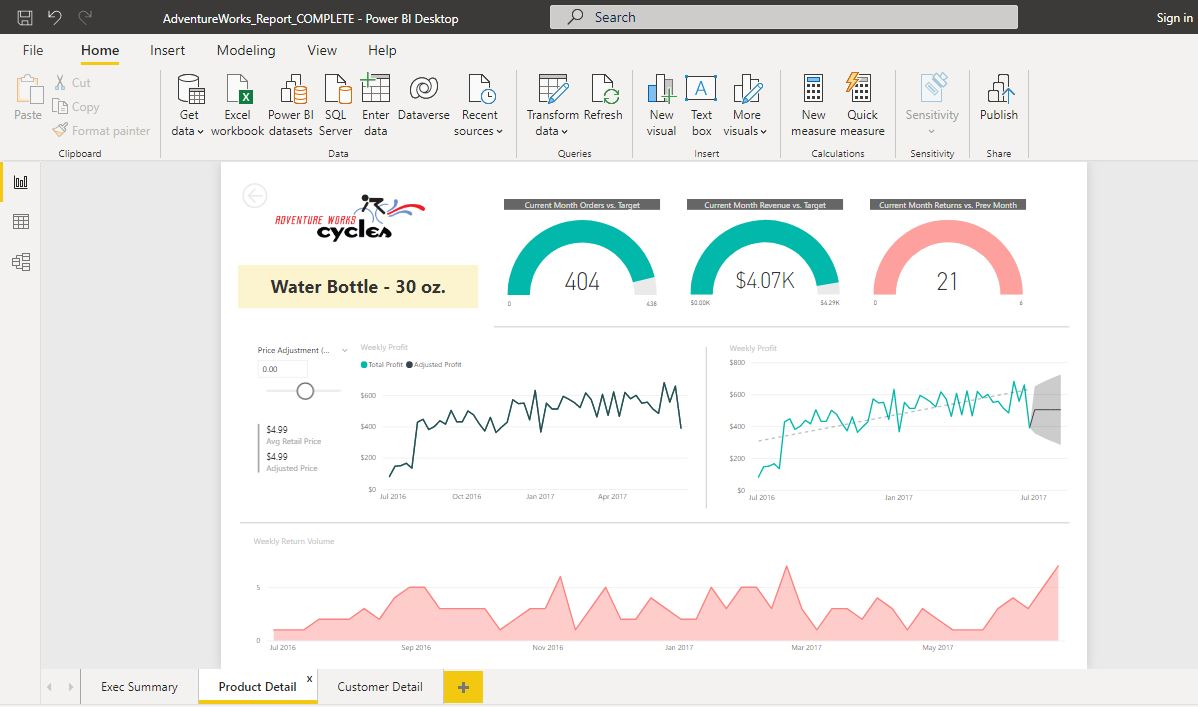

This screenshot's page, from the dashboard's own definition file:
{"tool":"powerbi","page":{"name":"Product Detail","canvas":[1280,720],"ordinal":1},"visuals":[{"type":"lineChart","fields":{"Y":["AW_Sales.Total Profit","AW_Sales.Adjusted Profit"],"Category":["AW_Calendar_Lookup.Start of Week"]},"box":[201.3,235.6,506.1,248.2],"z":2},{"type":"lineChart","fields":{"Y":["AW_Sales.Total Profit"],"Category":["AW_Calendar_Lookup.Start of Week"]},"box":[746.3,236.8,520,248.2],"z":2},{"type":"areaChart","fields":{"Category":["AW_Calendar_Lookup.Start of Week"],"Y":["AW_Returns.Total Returns"]},"box":[42.3,521.6,1223.9,185.3],"z":2},{"type":"gauge","fields":{"Y":["AW_Sales.Total Orders"],"MaxValue":["AW_Sales.Order Target"]},"box":[418.7,24.9,231.3,178],"z":4},{"type":"gauge","fields":{"Y":["AW_Sales.Total Revenue"],"MaxValue":["AW_Sales.Revenue Target"]},"box":[689.3,24.9,231.1,177.3],"z":4},{"type":"gauge","fields":{"Y":["AW_Returns.Total Returns"],"MaxValue":["AW_Returns.Prev Month Returns"]},"box":[959.7,24.9,231.1,177.3],"z":4},{"type":"card","fields":{"Values":["Min(AW_Product_Lookup.ProductName)"]},"box":[25.2,122.4,354.6,64.1],"z":7},{"type":"slicer","fields":{"Values":["Price Adjustment (%).Price Adjustment (%)"]},"box":[41.2,235.6,159,109.8],"z":9},{"type":"multiRowCard","fields":{"Values":["AW_Product_Lookup.Avg Retail Price","AW_Product_Lookup.Adjusted Price"]},"box":[48.3,351.2,152.1,106.4],"z":10},{"type":"basicShape","box":[393,196.7,870.7,35.5],"z":12},{"type":"basicShape","box":[656.6,233.4,122.4,258.5],"z":12},{"type":"basicShape","box":[17.2,485.9,1246.8,35.5],"z":12},{"type":"image","box":[73,14,240.2,80.1],"z":1000},{"type":"basicShape","box":[0,0,100,40],"z":1001}]}

Visuals, with their boxes on the page's 1280x720 design canvas (x1, y1, x2, y2). These are canvas units, not pixel positions in the 1198x707 screenshot, which may show the page scaled, cropped or inside an application window:
lineChart - AW_Sales.Total Profit x AW_Sales.Adjusted Profit: box=[201, 236, 707, 484]
lineChart - AW_Sales.Total Profit x AW_Calendar_Lookup.Start of Week: box=[746, 237, 1266, 485]
areaChart - AW_Calendar_Lookup.Start of Week x AW_Returns.Total Returns: box=[42, 522, 1266, 707]
gauge - AW_Sales.Total Orders x AW_Sales.Order Target: box=[419, 25, 650, 203]
gauge - AW_Sales.Total Revenue x AW_Sales.Revenue Target: box=[689, 25, 920, 202]
gauge - AW_Returns.Total Returns x AW_Returns.Prev Month Returns: box=[960, 25, 1191, 202]
card - Min(AW_Product_Lookup.ProductName): box=[25, 122, 380, 186]
slicer - Price Adjustment (%).Price Adjustment (%): box=[41, 236, 200, 345]
multiRowCard - AW_Product_Lookup.Avg Retail Price x AW_Product_Lookup.Adjusted Price: box=[48, 351, 200, 458]
basicShape: box=[393, 197, 1264, 232]
basicShape: box=[657, 233, 779, 492]
basicShape: box=[17, 486, 1264, 521]
image: box=[73, 14, 313, 94]
basicShape: box=[0, 0, 100, 40]
